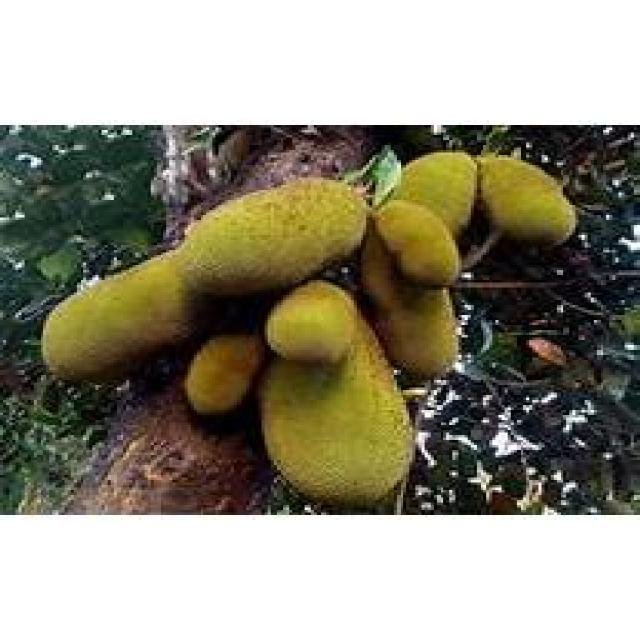Fruit: (114, 173, 452, 515)
